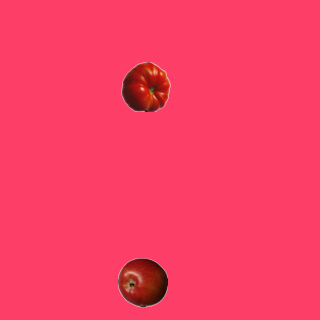Apple Braeburn: (117, 257, 167, 307)
Tomato 3: (120, 61, 170, 111)
